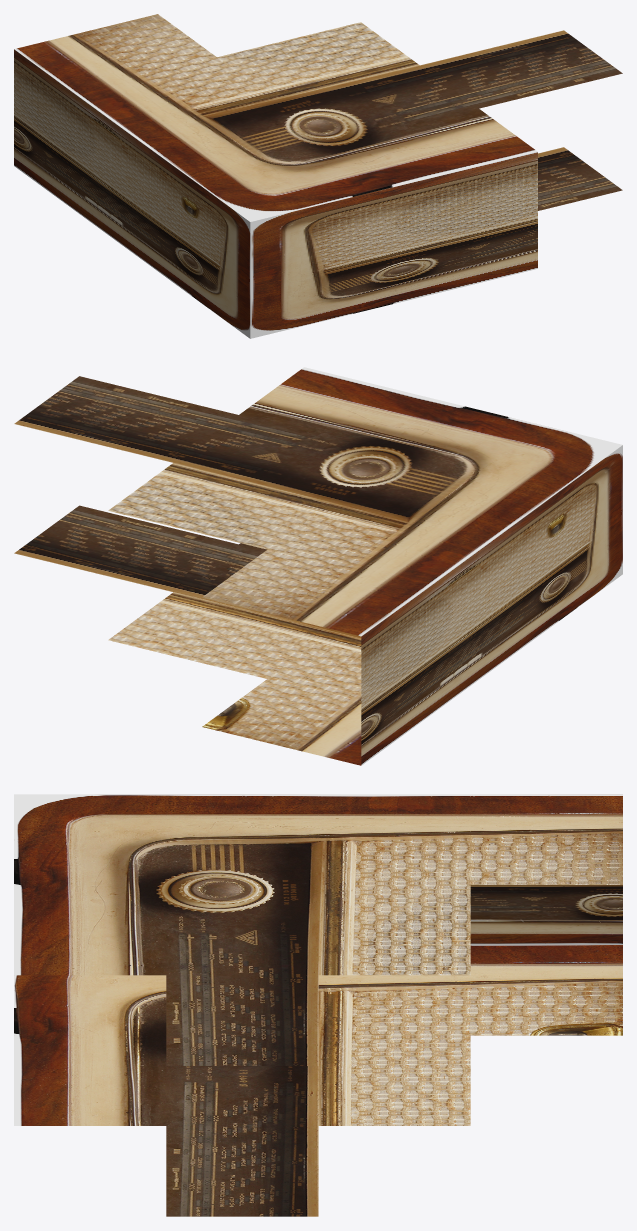
Rendered from Radio_03.FBX.
The picture shows the model from 3 angles, top to bottom: view 1: azimuth 30°, elevation 25°; view 2: azimuth 150°, elevation 25°; view 3: azimuth 270°, elevation 25°; orthographic projection. The views are drawn at different scales.
Visible parts, largest first — view 1: Object001; view 2: Object001; view 3: Object001.
Boxes of the visible parts, <box> form: Object001: <box>14,14,622,338</box>; Object001: <box>14,367,622,765</box>; Object001: <box>14,794,622,1216</box>.
Size of the model in its own units: 86.49 by 22.36 by 81.98.
